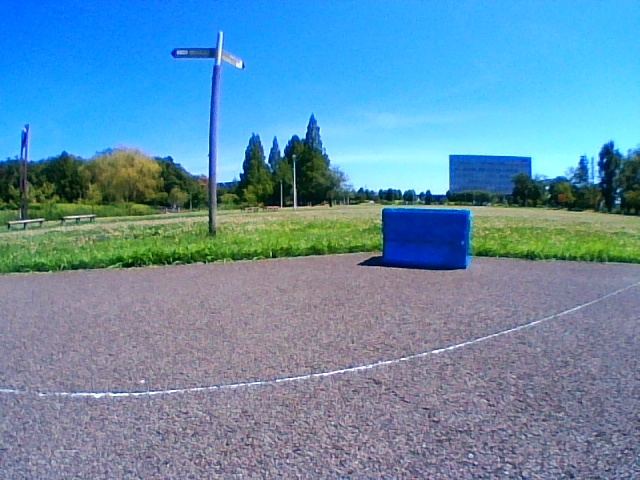blue_box: (382, 208, 469, 268)
